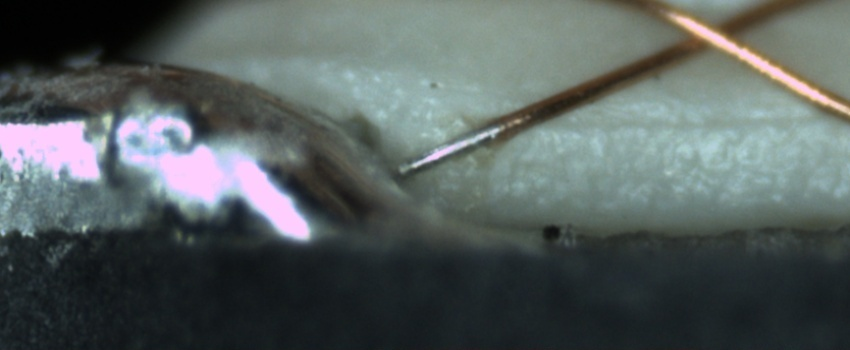CL: (662, 2, 765, 63)
DL: (558, 92, 849, 154)
TS: (390, 120, 507, 179)
